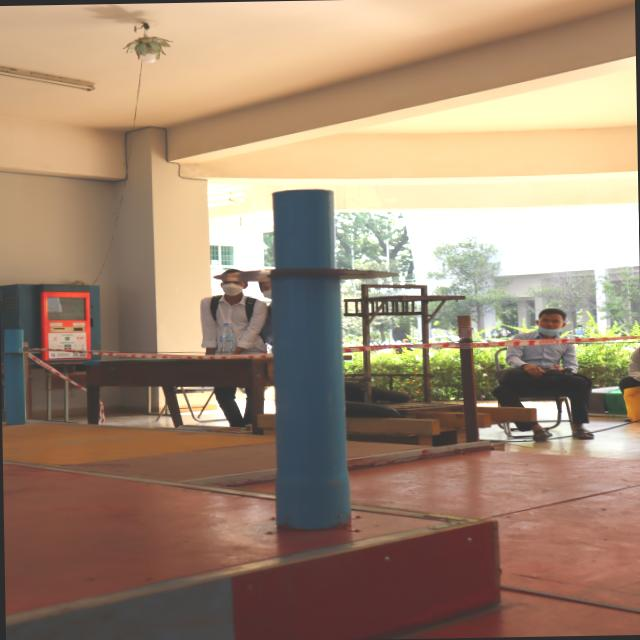pole: (218, 181, 412, 354)
